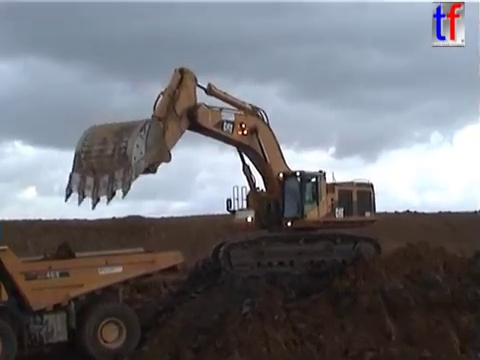excavator: (61, 64, 385, 279)
truck: (1, 243, 187, 360)
